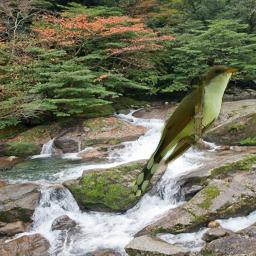Cuckoo: (133, 65, 239, 196)
